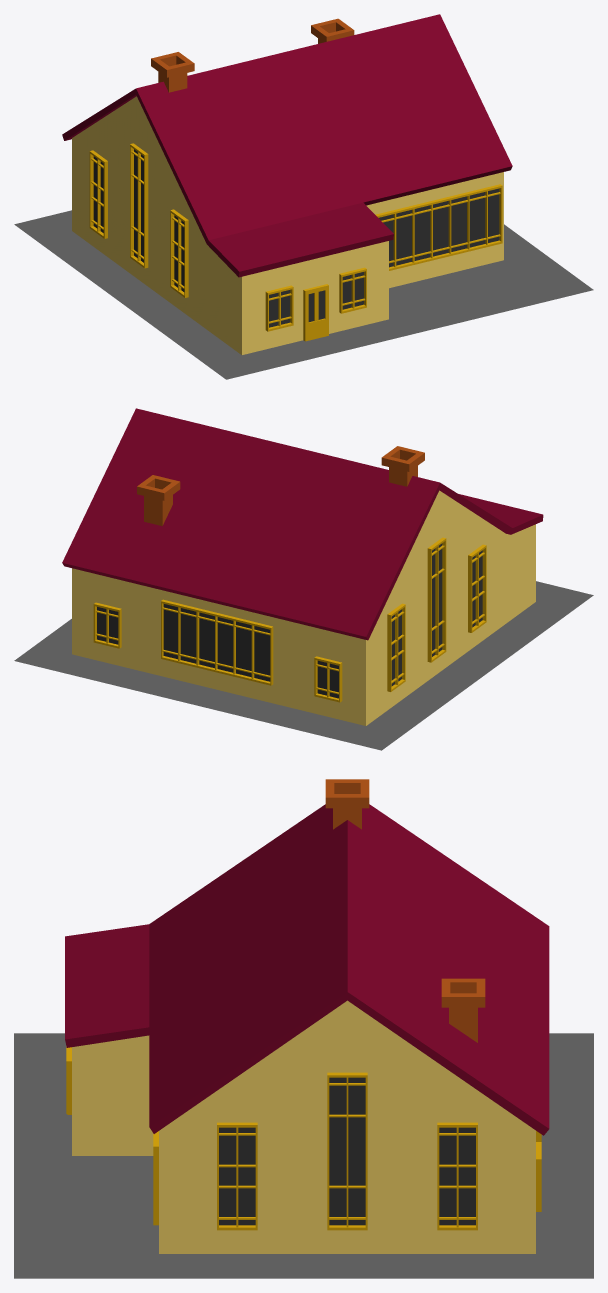
The model's file is house_01.fbx.
The picture shows the model from 3 angles, top to bottom: view 1: azimuth 30°, elevation 25°; view 2: azimuth 150°, elevation 25°; view 3: azimuth 270°, elevation 25°; orthographic projection. The views are drawn at different scales.
Visible parts, largest first — view 1: house_01; view 2: house_01; view 3: house_01.
Part boxes in pixels (box(x1,y1,x2,y2)): house_01: box(14, 14, 593, 379); house_01: box(14, 408, 593, 750); house_01: box(14, 779, 593, 1278).
Bounding box in the file's own units: 20 × 11.06 × 20.
